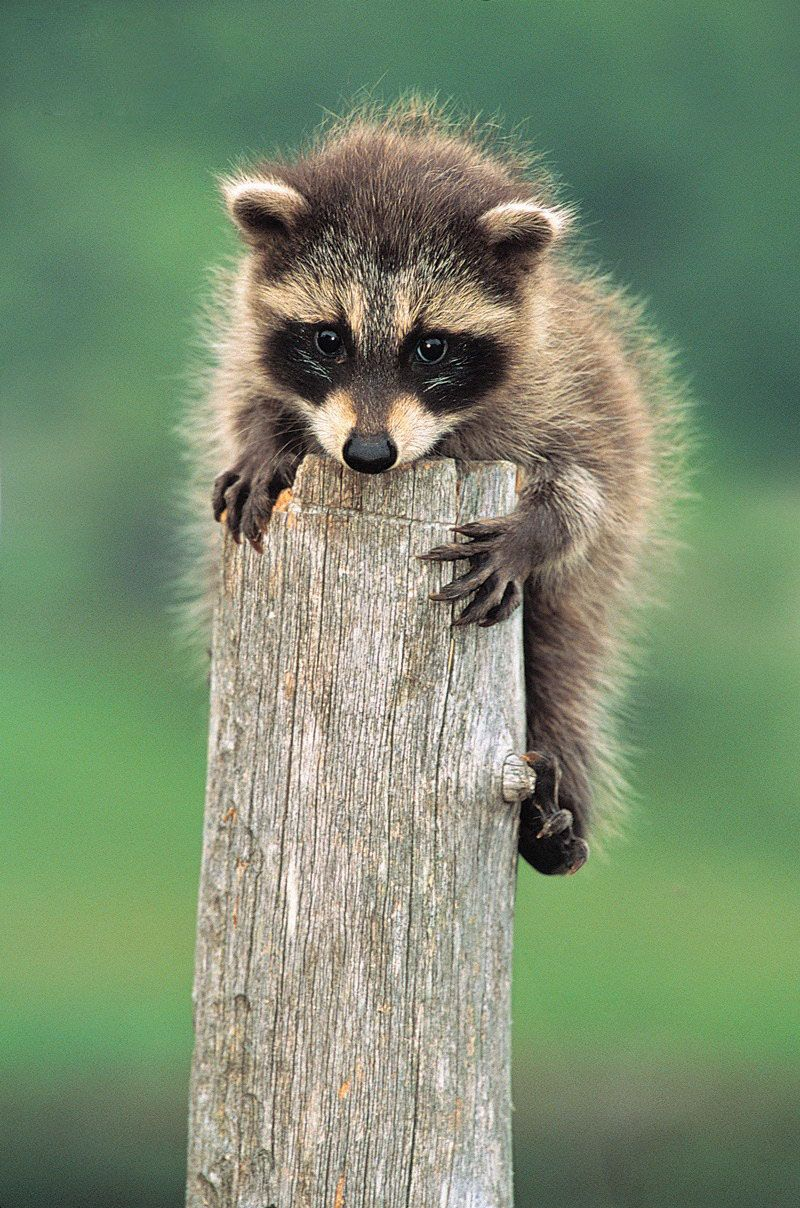raccoon: (167, 81, 699, 898)
